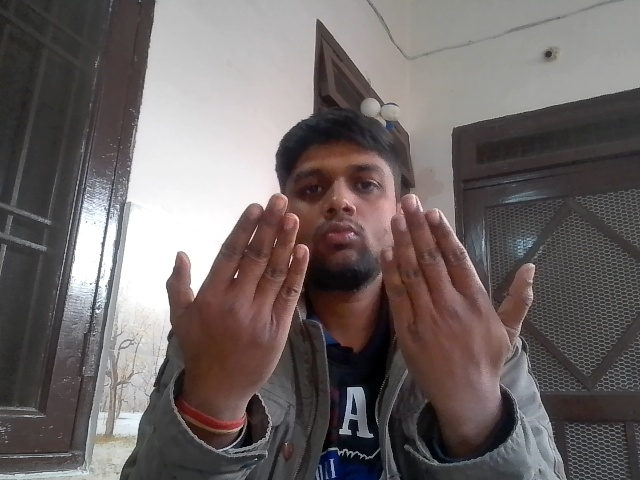ThankYou: (157, 187, 535, 421)
